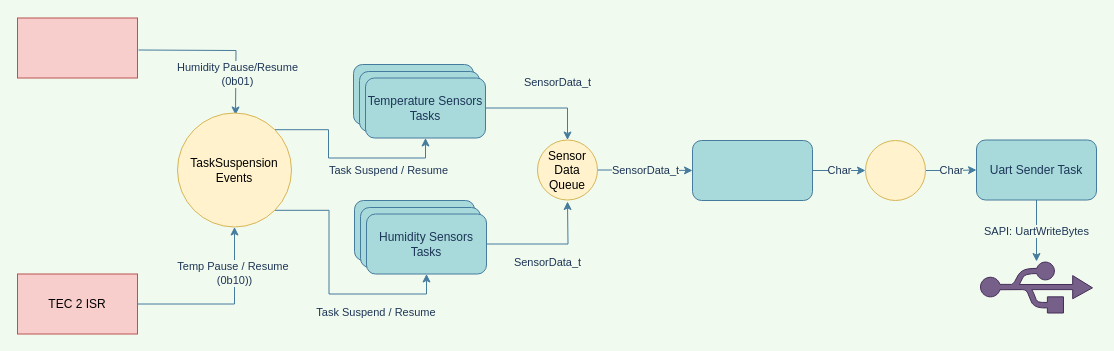
Some shapes in this 1114 by 351 pixel diagram are drawn without their labels. Each missing label, with the centre of its shape:
"Data Serializer Task" goes at point (752, 170).
"TEC 1 ISR" goes at point (77, 47).
"UART Queue" goes at point (895, 170).
